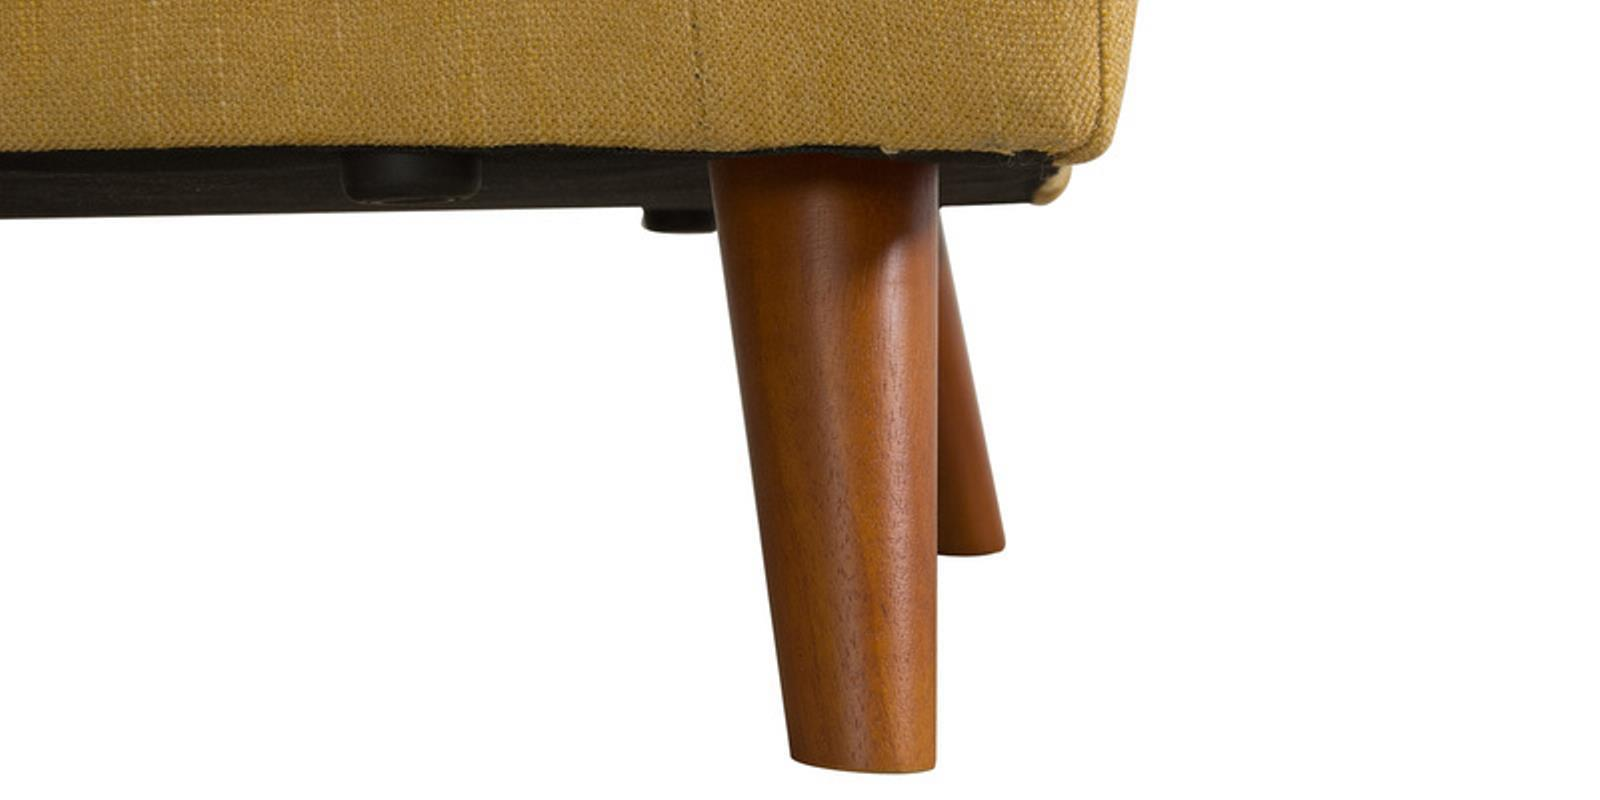Havana Three Seater Sofa in Ochre Colour by CasaCraft: (1, 1, 1177, 781)
